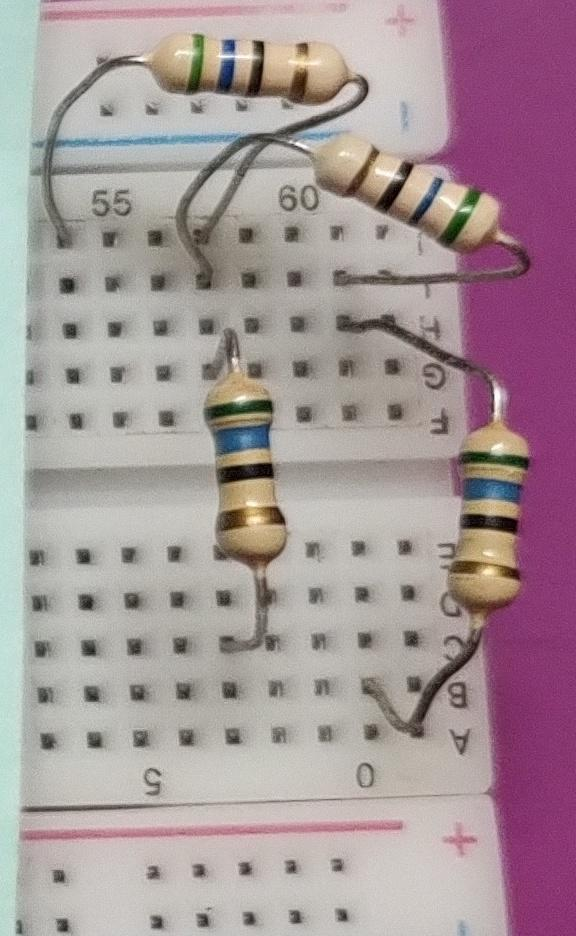resistor: (303, 133, 526, 264), (195, 343, 295, 583), (135, 21, 361, 121), (445, 401, 540, 632)
